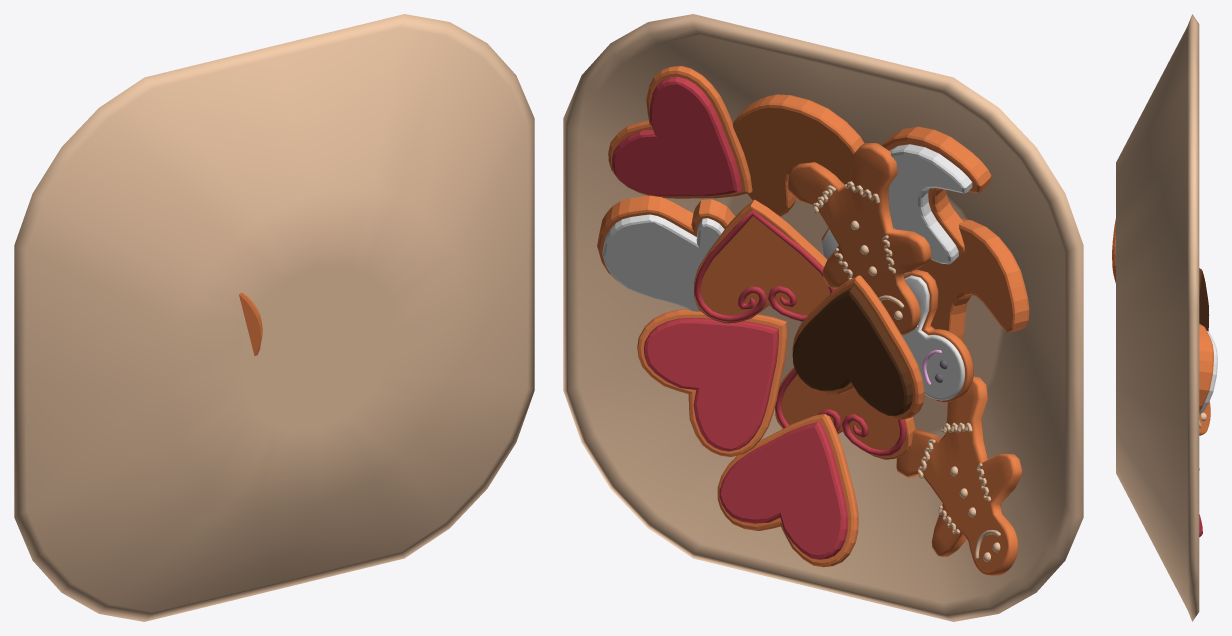
Rendered from Cookies.fbx.
The picture shows the model from 3 angles, left to right: view 1: azimuth 30°, elevation 25°; view 2: azimuth 150°, elevation 25°; view 3: azimuth 270°, elevation 25°; orthographic projection. The views are drawn at different scales.
Parts seen in each view (by area): view 1: Circle; view 2: Circle; view 3: Circle.
Part boxes in pixels (bbox=[...]): Circle: bbox=[14, 14, 534, 621]; Circle: bbox=[563, 14, 1083, 621]; Circle: bbox=[1112, 14, 1217, 621].
Bounding box in the file's own units: 0.5569 × 0.5569 × 0.1094.
